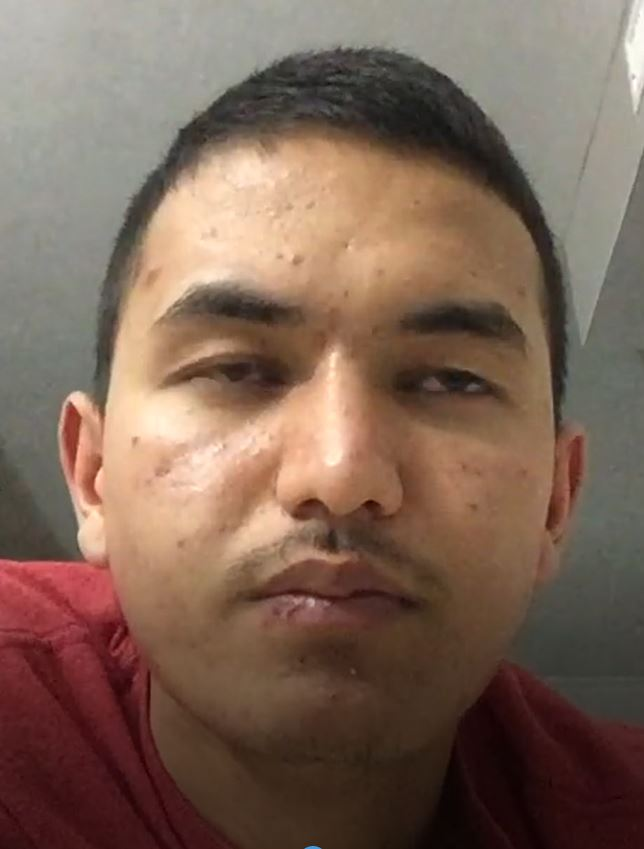Half Asleep: (139, 302, 551, 429)
